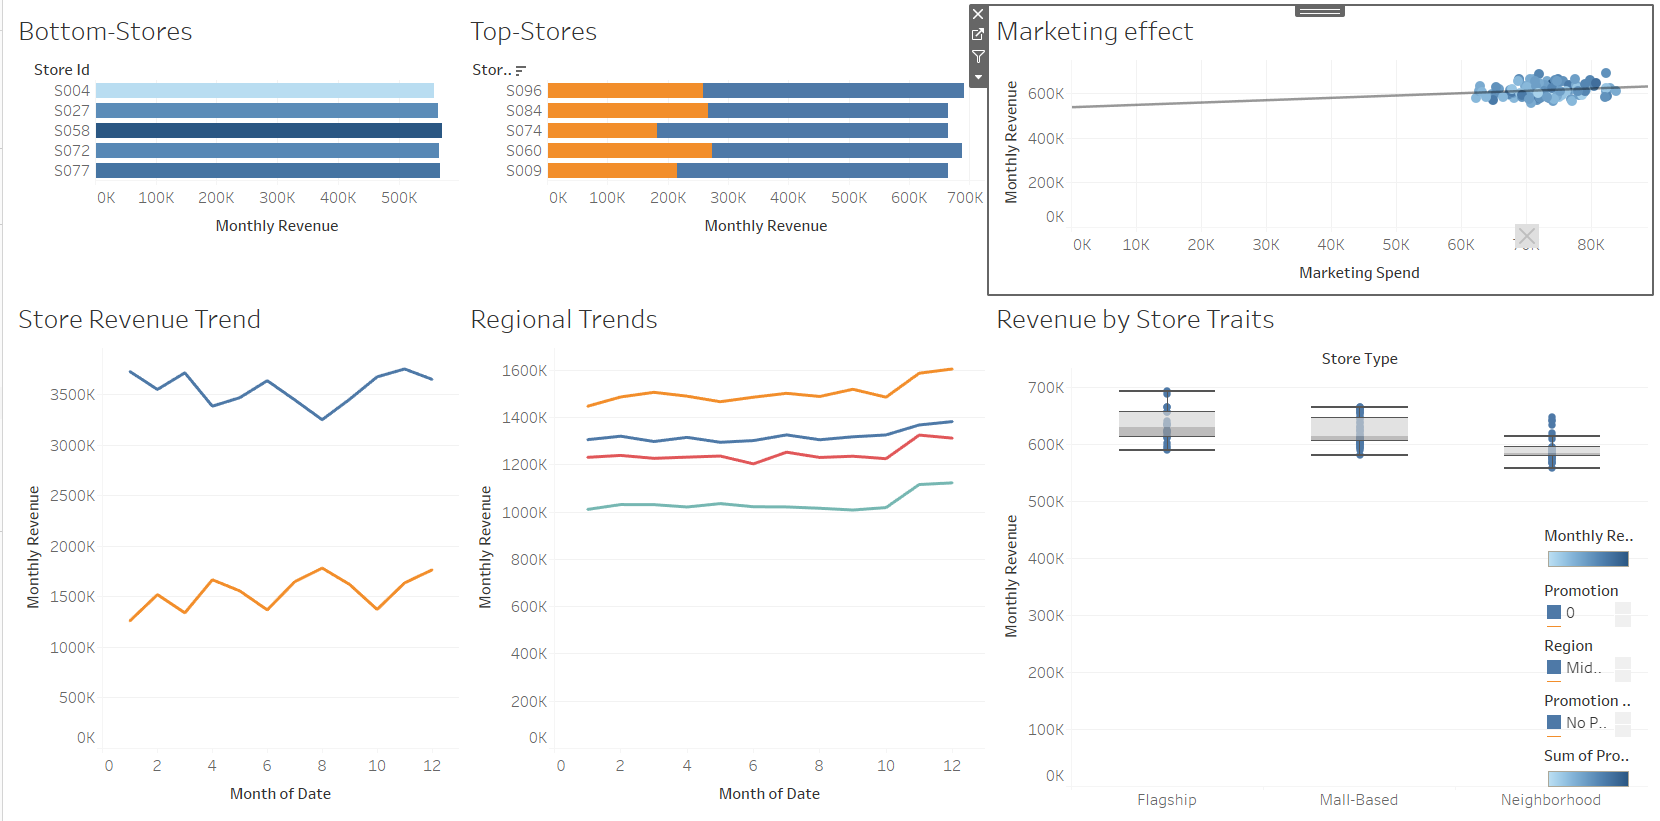

This screenshot's page, from the dashboard's own definition file:
{"tool":"tableau","page":{"name":"Dashboard 1","canvas":[1657,825],"ordinal":0},"visuals":[{"type":"worksheet","title":"Bottom-Stores","mark":"Automatic","rows":["store_id"],"cols":["monthly_revenue"],"box":[8,8,452,288]},{"type":"worksheet","title":"Top-Stores","mark":"Automatic","rows":["store_id"],"cols":["monthly_revenue"],"box":[460,8,526,288]},{"type":"worksheet","title":"Marketing effect","mark":"Circle","rows":["monthly_revenue"],"cols":["marketing_spend"],"box":[986,8,663,288]},{"type":"dashboard-object","box":[1512,226,24,24]},{"type":"worksheet","title":"Store Revenue Trend","mark":"Line","rows":["monthly_revenue"],"cols":["date"],"box":[8,296,452,521]},{"type":"worksheet","title":"Regional Trends","mark":"Automatic","rows":["monthly_revenue"],"cols":["date"],"box":[460,296,526,521]},{"type":"worksheet","title":"Revenue by Store Traits","mark":"Circle","rows":["monthly_revenue"],"cols":["store_type"],"box":[986,296,663,521]},{"type":"legend","title":"Bottom-Stores","param":"[federated.14nod591nc9rqa11gkbnz0wc5e1r].[sum:monthly_revenue:qk]","box":[1537,523,97,55]},{"type":"legend","title":"Top-Stores","param":"[federated.14nod591nc9rqa11gkbnz0wc5e1r].[none:promotion:ok]","box":[1537,578,97,55]},{"type":"legend","title":"Regional Trends","param":"[federated.14nod591nc9rqa11gkbnz0wc5e1r].[none:region:nk]","box":[1537,633,97,55]},{"type":"legend","title":"Store Revenue Trend","param":"[federated.14nod591nc9rqa11gkbnz0wc5e1r].[none:Calculation_1036672384915640321:n","box":[1537,688,97,55]},{"type":"legend","title":"Marketing effect","param":"[federated.14nod591nc9rqa11gkbnz0wc5e1r].[sum:promotion:qk]","box":[1537,743,97,55]}]}

Visuals, with their boxes in screenshot pixels (x1, y1, x2, y2), scaled from the page's 1657x825 canvas onto the 1660x821 screenshot:
"Bottom-Stores" worksheet: (8,8,461,295)
"Top-Stores" worksheet: (461,8,988,295)
"Marketing effect" worksheet (Circle marks): (988,8,1652,295)
dashboard-object: (1515,225,1539,249)
"Store Revenue Trend" worksheet (Line marks): (8,295,461,813)
"Regional Trends" worksheet: (461,295,988,813)
"Revenue by Store Traits" worksheet (Circle marks): (988,295,1652,813)
"Bottom-Stores" legend: (1540,520,1637,575)
"Top-Stores" legend: (1540,575,1637,630)
"Regional Trends" legend: (1540,630,1637,685)
"Store Revenue Trend" legend: (1540,685,1637,739)
"Marketing effect" legend: (1540,739,1637,794)
